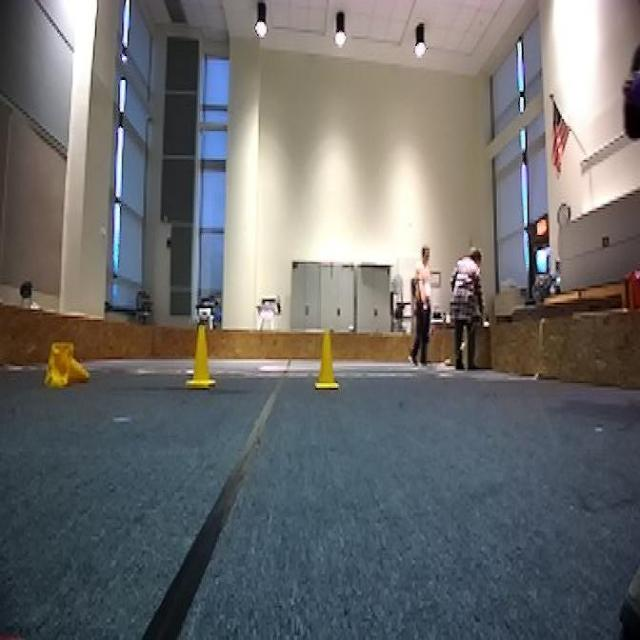frc_cone: (186, 325, 217, 388), (44, 344, 90, 386), (312, 334, 343, 389)
frc_cube: (624, 68, 640, 140)
